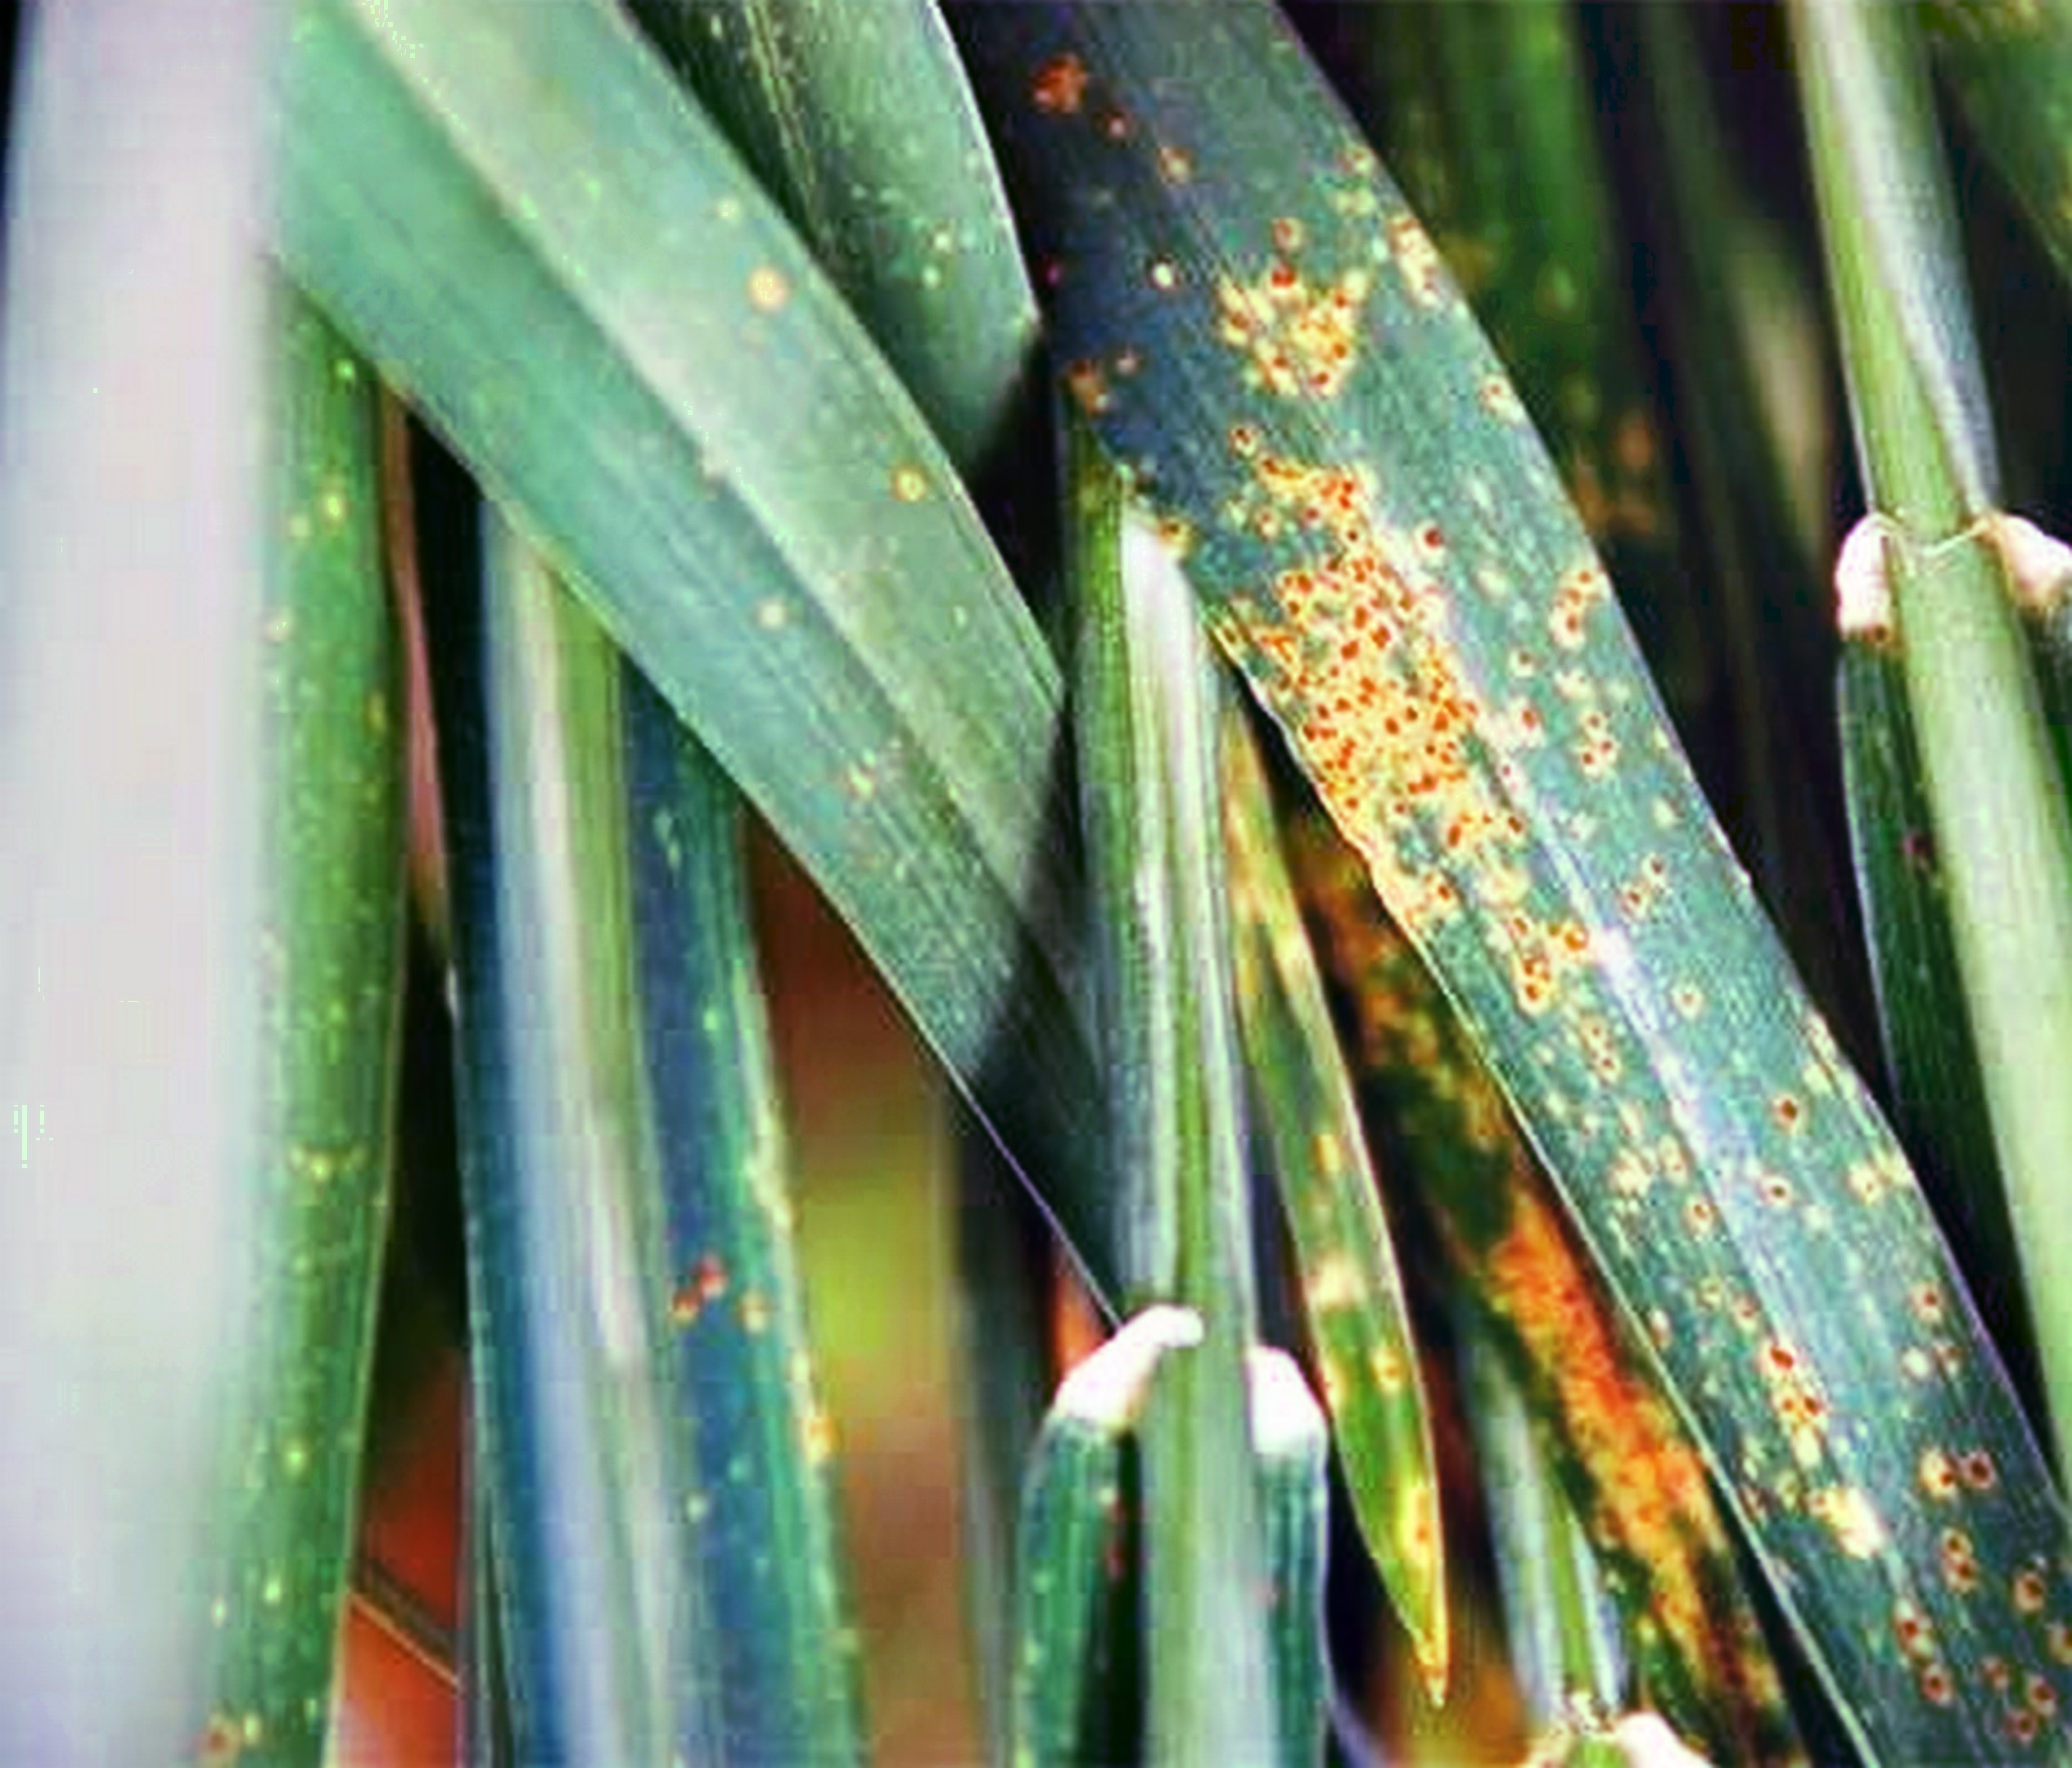Leaf Rust: (1216, 300, 2005, 1586)
